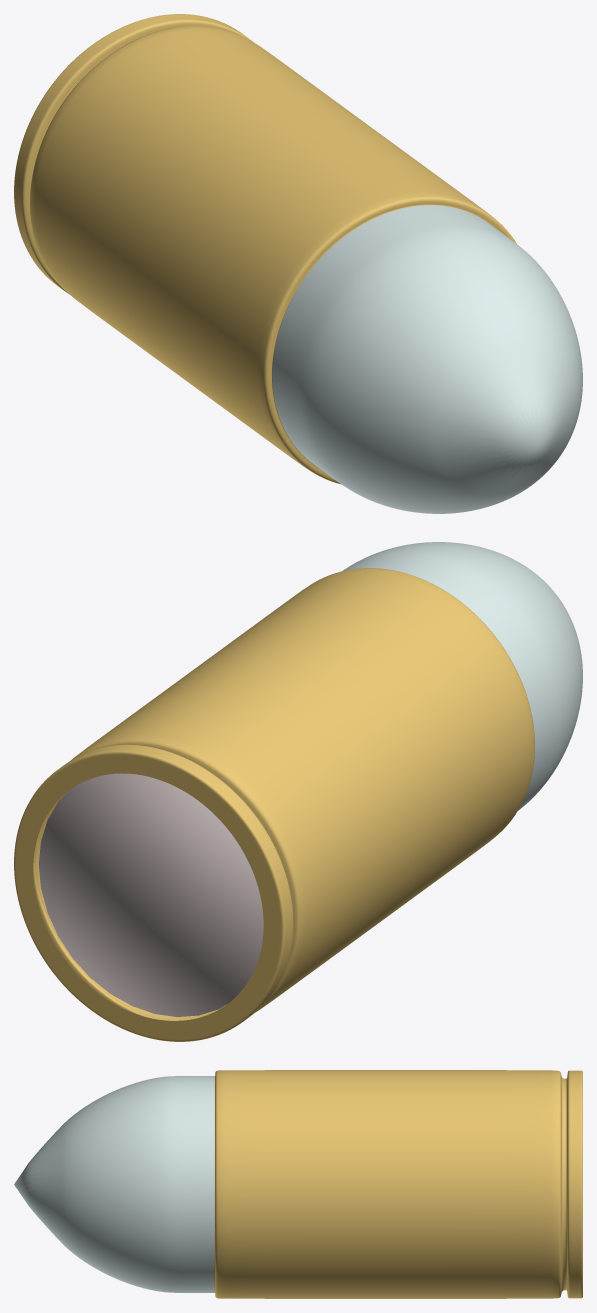
The picture shows the model from 3 angles, top to bottom: view 1: azimuth 30°, elevation 25°; view 2: azimuth 150°, elevation 25°; view 3: azimuth 270°, elevation 25°; orthographic projection. The views are drawn at different scales.
Visible parts, largest first — view 1: Cylinder; view 2: Cylinder, Cylinder.001; view 3: Cylinder.
Part boxes in pixels (bbox=[...]): Cylinder: bbox=[14, 14, 582, 513]; Cylinder: bbox=[14, 542, 582, 1041]; Cylinder.001: bbox=[38, 773, 263, 1016]; Cylinder: bbox=[14, 1070, 582, 1298].
Bounding box in the file's own units: 52.85 × 52.85 × 132.
